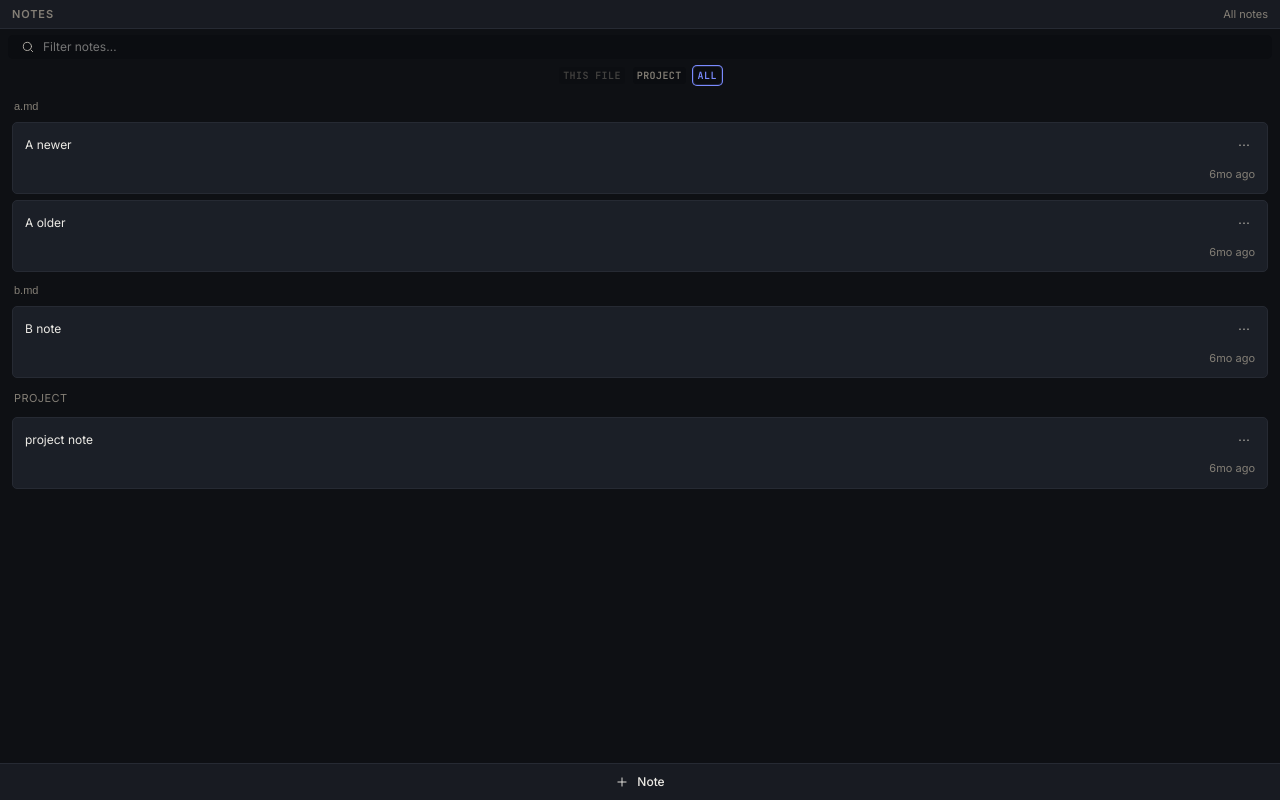
Scenario: the all-notes position (NTS-FR-10 / NTS-FR-11 / NTS-FR-15) › filters client-side, hiding a group left with nothing (NTS-FR-12)
expect the text "A newer" is shown: met, box [25,137,72,152]
Type "A newer" into the field labelled "Filter notes" at x=651, y=47, box [43,38,1259,56]
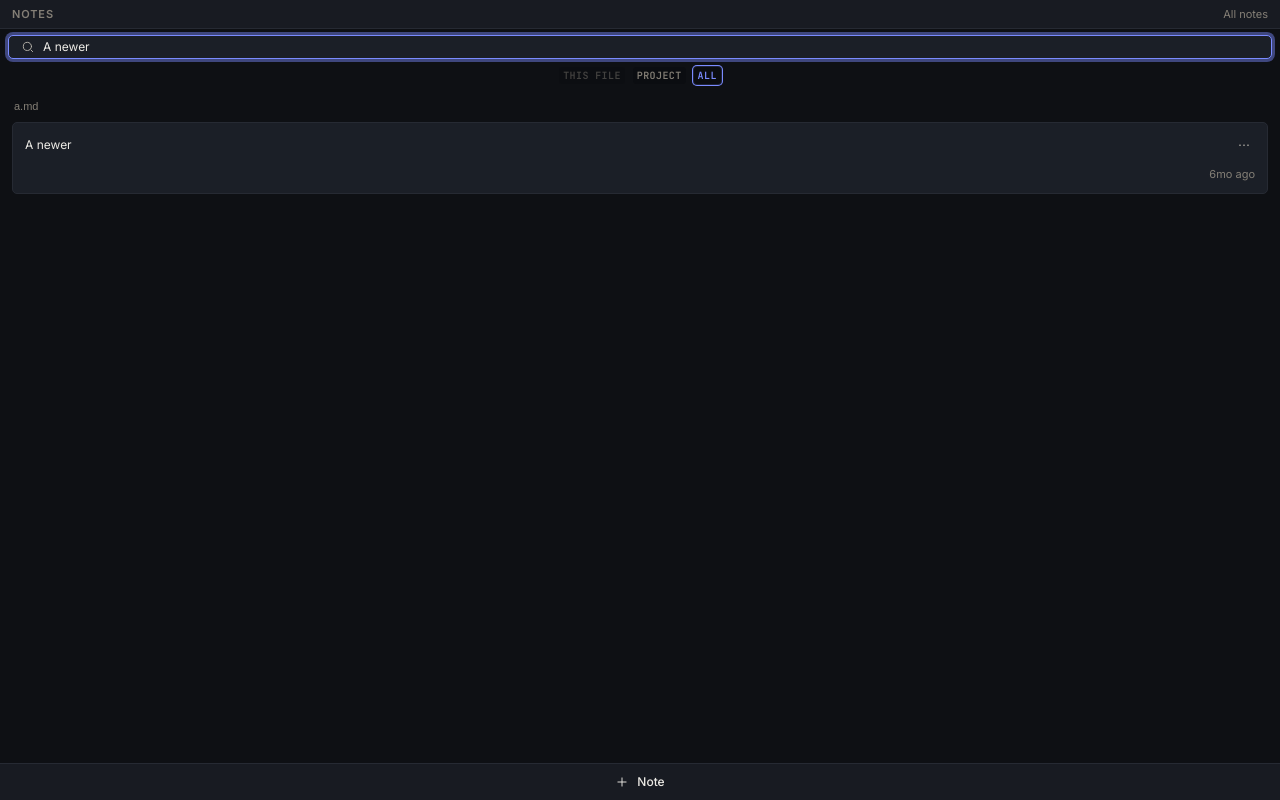
expect the number of elements with test id "note-row" is 1: met, box [12,122,1268,194]
// And a note also matches on its entity's name.
Replace the text in the field named "Filter notes" with "b.md" at x=651, y=47, box [43,38,1259,56]
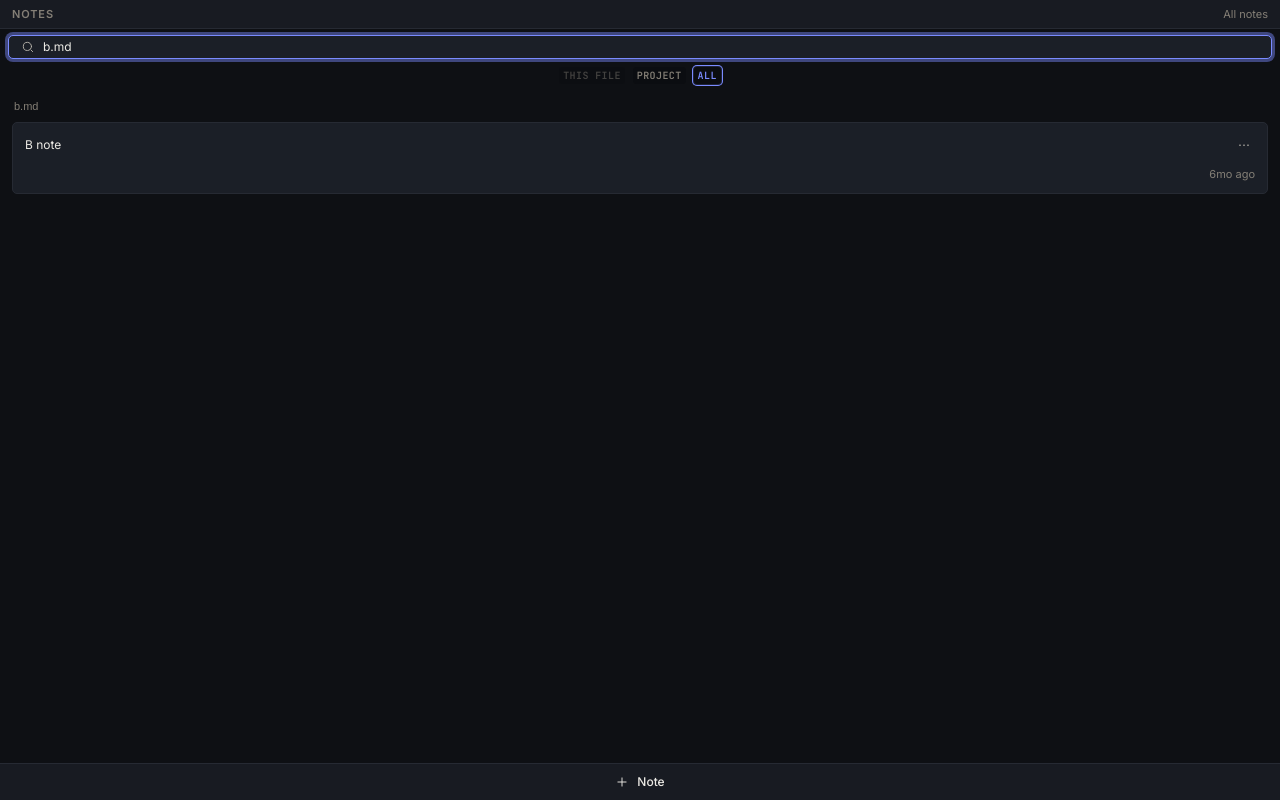
expect the text "B note" is shown: met, box [25,137,61,152]
expect the number of elements with test id "note-row" is 1: met, box [12,122,1268,194]
